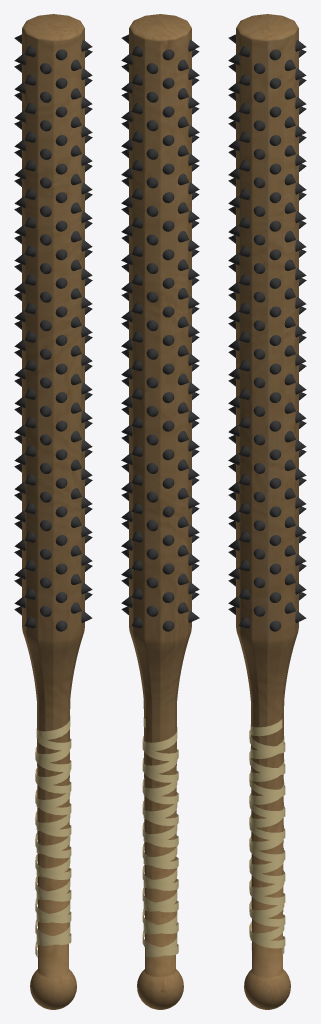
The model's file is wpn_mace.glb.
The picture shows the model from 3 angles, left to right: view 1: azimuth 30°, elevation 25°; view 2: azimuth 210°, elevation 25°; view 3: azimuth 330°, elevation 25°; orthographic projection.
Parts seen in each view (by area): view 1: Cone; view 2: Cone; view 3: Cone.
Part boxes in pixels (<box>): Cone: <box>14,14,92,1009</box>; Cone: <box>121,14,199,1009</box>; Cone: <box>228,14,306,1009</box>.
Bounding box in the file's own units: 2.5 × 34.38 × 2.5.
Materials: 1 (1 with a texture image).
